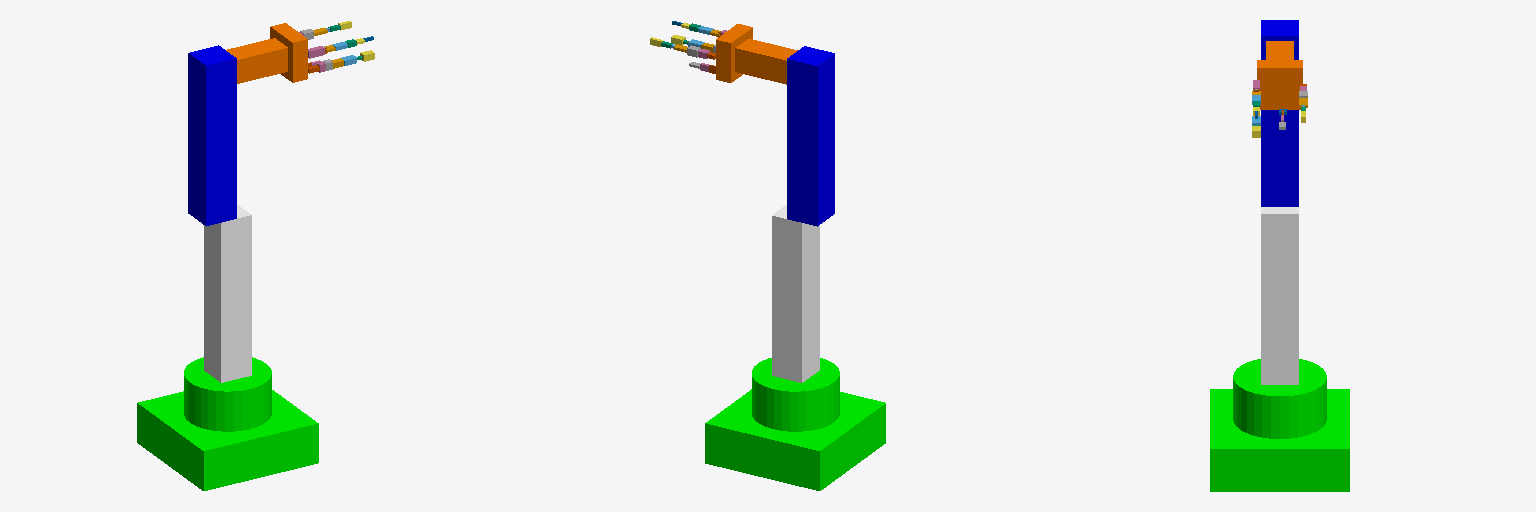
URDF robot description (robot):
<?xml version='1.0' encoding='utf-8'?>
<robot name="robot">
  <link name="base_link">
    <visual>
      <origin xyz="0 0 0.125" rpy="0 0 0" />
      <geometry>
        <box size="0.75 0.75 0.25" />
      </geometry>
      <material name="green" />
    </visual>
    <visual>
      <origin xyz="0 0 0.375" rpy="0 0 0" />
      <geometry>
        <cylinder length="0.25" radius="0.25" />
      </geometry>
      <material name="green">
        <color rgba="0 1 0 1" />
      </material>
    </visual>
    <collision>
      <geometry>
        <box size="0.75 0.75 0.5" />
      </geometry>
    </collision>
    <inertial>
      <mass value="0.5" />
      <inertia ixx="0.034" ixy="0.0" ixz="0.0" iyy="0.034" iyz="0.0" izz="0.034" />
    </inertial>
  </link>
  <link name="support_link">
    <visual>
      <origin xyz="0 0 0.5" rpy="0 0 0" />
      <geometry>
        <box size="0.2 0.2 1" />
      </geometry>
      <material name="white">
        <color rgba="1 1 1 1" />
      </material>
    </visual>
    <collision>
      <geometry>
        <box size="0.2 0.2 1" />
      </geometry>
    </collision>
    <inertial>
      <mass value="0.1" />
      <inertia ixx="0.01" ixy="0.0" ixz="0.0" iyy="0.01" iyz="0.0" izz="0.01" />
    </inertial>
  </link>
  <joint name="support_joint" type="continuous">
    <origin xyz="0 0 0.5" rpy="0 0 0" />
    <parent link="base_link" />
    <child link="support_link" />
    <axis xyz="0 0 1" />
  </joint>
  <link name="arm_link">
    <visual>
      <origin xyz="0 0 0.5" rpy="0 0 0" />
      <geometry>
        <box size="0.2 0.2 1" />
      </geometry>
      <material name="blue">
        <color rgba="0 0 1 1" />
      </material>
    </visual>
    <collision>
      <geometry>
        <box size="0.2 0.2 1" />
      </geometry>
    </collision>
    <inertial>
      <mass value="0.1" />
      <inertia ixx="0.01" ixy="0.0" ixz="0.0" iyy="0.01" iyz="0.0" izz="0.01" />
    </inertial>
  </link>
  <joint name="arm_joint" type="revolute">
    <origin xyz="-0.1 0 1" rpy="0 0 0" />
    <parent link="support_link" />
    <child link="arm_link" />
    <axis xyz="0 1 0" />
    <limit lower="-3.14" upper="3.14" effort="1.0" velocity="1.0" />
  </joint>
  <link name="wrist_link">
    <visual>
      <origin xyz="0 0 0.25" rpy="0 0 0" />
      <geometry>
        <box size="0.15 0.15 0.5" />
      </geometry>
      <material name="orange">
        <color rgba="1 0.5 0 1" />
      </material>
    </visual>
    <collision>
      <geometry>
        <box size="0.15 0.15 0.5" />
      </geometry>
    </collision>
    <inertial>
      <mass value="0.1" />
      <inertia ixx="0.01" ixy="0.0" ixz="0.0" iyy="0.01" iyz="0.0" izz="0.01" />
    </inertial>
  </link>
  <joint name="wrist_joint" type="fixed">
    <origin xyz="0 0 0.9" rpy="0 1.571 0" />
    <parent link="arm_link" />
    <child link="wrist_link" />
  </joint>
  <link name="palm_link">
    <visual>
      <origin xyz="0 0 0.05" rpy="0 0 0" />
      <geometry>
        <box size="0.25 0.25 0.1" />
      </geometry>
      <material name="orange" />
    </visual>
    <collision>
      <geometry>
        <box size="0.25 0.25 0.1" />
      </geometry>
    </collision>
    <inertial>
      <mass value="0.1" />
      <inertia ixx="0.01" ixy="0.0" ixz="0.0" iyy="0.01" iyz="0.0" izz="0.01" />
    </inertial>
  </link>
  <joint name="palm_joint" type="fixed">
    <origin xyz="0 0 0.45" rpy="0 0 0" />
    <parent link="wrist_link" />
    <child link="palm_link" />
  </joint>
  <link name="finger_link_0_0">
    <visual>
      <origin xyz="0 0 0.023" rpy="0 0 0" />
      <geometry>
        <box size="0.024 0.035 0.046" />
      </geometry>
    </visual>
    <collision>
      <geometry>
        <box size="0.024 0.035 0.046" />
      </geometry>
    </collision>
    <inertial>
      <mass value="0.012" />
      <inertia ixx="0.0" iyy="0.0" izz="0.0" ixy="0" ixz="0" iyz="0" />
    </inertial>
  </link>
  <joint name="finger_joint_palm_link_to_finger_link_0_0" type="revolute">
    <origin xyz="-0.018 0.125 0.1" rpy="0 0 0" />
    <parent link="palm_link" />
    <child link="finger_link_0_0" />
    <axis xyz="-1.0 0.0 0.0" />
    <limit lower="-3.142" upper="3.142" effort="10" velocity="10" />
  </joint>
  <link name="finger_link_0_1">
    <visual>
      <origin xyz="0 0 0.0305" rpy="0 0 0" />
      <geometry>
        <box size="0.038 0.041 0.061" />
      </geometry>
    </visual>
    <collision>
      <geometry>
        <box size="0.038 0.041 0.061" />
      </geometry>
    </collision>
    <inertial>
      <mass value="0.029" />
      <inertia ixx="0.0" iyy="0.0" izz="0.0" ixy="0" ixz="0" iyz="0" />
    </inertial>
  </link>
  <joint name="finger_joint_finger_link_0_0_to_finger_link_0_1" type="revolute">
    <origin xyz="0.0 0.0 0.046" rpy="0 0 0" />
    <parent link="finger_link_0_0" />
    <child link="finger_link_0_1" />
    <axis xyz="0.0 1.0 0.0" />
    <limit lower="-3.142" upper="3.142" effort="10" velocity="10" />
  </joint>
  <link name="finger_link_0_2">
    <visual>
      <origin xyz="0 0 0.033" rpy="0 0 0" />
      <geometry>
        <box size="0.044 0.046 0.066" />
      </geometry>
    </visual>
    <collision>
      <geometry>
        <box size="0.044 0.046 0.066" />
      </geometry>
    </collision>
    <inertial>
      <mass value="0.04" />
      <inertia ixx="0.0" iyy="0.0" izz="0.0" ixy="0" ixz="0" iyz="0" />
    </inertial>
  </link>
  <joint name="finger_joint_finger_link_0_1_to_finger_link_0_2" type="revolute">
    <origin xyz="0.0 0.0 0.061" rpy="0 0 0" />
    <parent link="finger_link_0_1" />
    <child link="finger_link_0_2" />
    <axis xyz="1.0 0.0 0.0" />
    <limit lower="-3.142" upper="3.142" effort="10" velocity="10" />
  </joint>
  <link name="finger_link_0_3">
    <visual>
      <origin xyz="0 0 0.045" rpy="0 0 0" />
      <geometry>
        <box size="0.017 0.044 0.09" />
      </geometry>
    </visual>
    <collision>
      <geometry>
        <box size="0.017 0.044 0.09" />
      </geometry>
    </collision>
    <inertial>
      <mass value="0.02" />
      <inertia ixx="0.0" iyy="0.0" izz="0.0" ixy="0" ixz="0" iyz="0" />
    </inertial>
  </link>
  <joint name="finger_joint_finger_link_0_2_to_finger_link_0_3" type="revolute">
    <origin xyz="0.0 0.0 0.066" rpy="0 0 0" />
    <parent link="finger_link_0_2" />
    <child link="finger_link_0_3" />
    <axis xyz="0.0 1.0 0.0" />
    <limit lower="-3.142" upper="3.142" effort="10" velocity="10" />
  </joint>
  <link name="finger_link_0_4">
    <visual>
      <origin xyz="0 0 0.011" rpy="0 0 0" />
      <geometry>
        <box size="0.017 0.017 0.022" />
      </geometry>
    </visual>
    <collision>
      <geometry>
        <box size="0.017 0.017 0.022" />
      </geometry>
    </collision>
    <inertial>
      <mass value="0.002" />
      <inertia ixx="0.0" iyy="0.0" izz="0.0" ixy="0" ixz="0" iyz="0" />
    </inertial>
  </link>
  <joint name="finger_joint_finger_link_0_3_to_finger_link_0_4" type="revolute">
    <origin xyz="0.0 0.0 0.09" rpy="0 0 0" />
    <parent link="finger_link_0_3" />
    <child link="finger_link_0_4" />
    <axis xyz="1.0 1.0 0.0" />
    <limit lower="-3.142" upper="3.142" effort="10" velocity="10" />
  </joint>
  <link name="finger_link_0_5">
    <visual>
      <origin xyz="0 0 0.032" rpy="0 0 0" />
      <geometry>
        <box size="0.021 0.028 0.064" />
      </geometry>
    </visual>
    <collision>
      <geometry>
        <box size="0.021 0.028 0.064" />
      </geometry>
    </collision>
    <inertial>
      <mass value="0.011" />
      <inertia ixx="0.0" iyy="0.0" izz="0.0" ixy="0" ixz="0" iyz="0" />
    </inertial>
  </link>
  <joint name="finger_joint_finger_link_0_4_to_finger_link_0_5" type="revolute">
    <origin xyz="0.0 0.0 0.022" rpy="0 0 0" />
    <parent link="finger_link_0_4" />
    <child link="finger_link_0_5" />
    <axis xyz="0.0 1.0 0.0" />
    <limit lower="-3.142" upper="3.142" effort="10" velocity="10" />
  </joint>
  <link name="finger_link_0_6">
    <visual>
      <origin xyz="0 0 0.038" rpy="0 0 0" />
      <geometry>
        <box size="0.037 0.023 0.076" />
      </geometry>
    </visual>
    <collision>
      <geometry>
        <box size="0.037 0.023 0.076" />
      </geometry>
    </collision>
    <inertial>
      <mass value="0.019" />
      <inertia ixx="0.0" iyy="0.0" izz="0.0" ixy="0" ixz="0" iyz="0" />
    </inertial>
  </link>
  <joint name="finger_joint_finger_link_0_5_to_finger_link_0_6" type="revolute">
    <origin xyz="0.0 0.0 0.064" rpy="0 0 0" />
    <parent link="finger_link_0_5" />
    <child link="finger_link_0_6" />
    <axis xyz="1.0 0.0 0.0" />
    <limit lower="-3.142" upper="3.142" effort="10" velocity="10" />
  </joint>
  <link name="finger_link_1_0">
    <visual>
      <origin xyz="0 0 0.0435" rpy="0 0 0" />
      <geometry>
        <box size="0.031 0.026 0.087" />
      </geometry>
    </visual>
    <collision>
      <geometry>
        <box size="0.031 0.026 0.087" />
      </geometry>
    </collision>
    <inertial>
      <mass value="0.021" />
      <inertia ixx="0.0" iyy="0.0" izz="0.0" ixy="0" ixz="0" iyz="0" />
    </inertial>
  </link>
  <joint name="finger_joint_palm_link_to_finger_link_1_0" type="revolute">
    <origin xyz="-0.029 -0.125 0.1" rpy="0 0 0" />
    <parent link="palm_link" />
    <child link="finger_link_1_0" />
    <axis xyz="1.0 0.0 0.0" />
    <limit lower="-3.142" upper="3.142" effort="10" velocity="10" />
  </joint>
  <link name="finger_link_1_1">
    <visual>
      <origin xyz="0 0 0.016" rpy="0 0 0" />
      <geometry>
        <box size="0.037 0.026 0.032" />
      </geometry>
    </visual>
    <collision>
      <geometry>
        <box size="0.037 0.026 0.032" />
      </geometry>
    </collision>
    <inertial>
      <mass value="0.009" />
      <inertia ixx="0.0" iyy="0.0" izz="0.0" ixy="0" ixz="0" iyz="0" />
    </inertial>
  </link>
  <joint name="finger_joint_finger_link_1_0_to_finger_link_1_1" type="revolute">
    <origin xyz="0.0 0.0 0.087" rpy="0 0 0" />
    <parent link="finger_link_1_0" />
    <child link="finger_link_1_1" />
    <axis xyz="1.0 0.0 0.0" />
    <limit lower="-3.142" upper="3.142" effort="10" velocity="10" />
  </joint>
  <link name="finger_link_2_0">
    <visual>
      <origin xyz="0 0 0.0495" rpy="0 0 0" />
      <geometry>
        <box size="0.045 0.035 0.099" />
      </geometry>
    </visual>
    <collision>
      <geometry>
        <box size="0.045 0.035 0.099" />
      </geometry>
    </collision>
    <inertial>
      <mass value="0.047" />
      <inertia ixx="0.0" iyy="0.0" izz="0.0" ixy="0" ixz="0" iyz="0" />
    </inertial>
  </link>
  <joint name="finger_joint_palm_link_to_finger_link_2_0" type="revolute">
    <origin xyz="-0.032 -0.125 0.1" rpy="0 0 0" />
    <parent link="palm_link" />
    <child link="finger_link_2_0" />
    <axis xyz="1.0 0.0 0.0" />
    <limit lower="-3.142" upper="3.142" effort="10" velocity="10" />
  </joint>
  <link name="finger_link_2_1">
    <visual>
      <origin xyz="0 0 0.0065" rpy="0 0 0" />
      <geometry>
        <box size="0.034 0.015 0.013" />
      </geometry>
    </visual>
    <collision>
      <geometry>
        <box size="0.034 0.015 0.013" />
      </geometry>
    </collision>
    <inertial>
      <mass value="0.002" />
      <inertia ixx="0.0" iyy="0.0" izz="0.0" ixy="0" ixz="0" iyz="0" />
    </inertial>
  </link>
  <joint name="finger_joint_finger_link_2_0_to_finger_link_2_1" type="revolute">
    <origin xyz="0.0 0.0 0.099" rpy="0 0 0" />
    <parent link="finger_link_2_0" />
    <child link="finger_link_2_1" />
    <axis xyz="1.0 1.0 0.0" />
    <limit lower="-3.142" upper="3.142" effort="10" velocity="10" />
  </joint>
  <link name="finger_link_2_2">
    <visual>
      <origin xyz="0 0 0.0285" rpy="0 0 0" />
      <geometry>
        <box size="0.016 0.048 0.057" />
      </geometry>
    </visual>
    <collision>
      <geometry>
        <box size="0.016 0.048 0.057" />
      </geometry>
    </collision>
    <inertial>
      <mass value="0.013" />
      <inertia ixx="0.0" iyy="0.0" izz="0.0" ixy="0" ixz="0" iyz="0" />
    </inertial>
  </link>
  <joint name="finger_joint_finger_link_2_1_to_finger_link_2_2" type="revolute">
    <origin xyz="0.0 0.0 0.013" rpy="0 0 0" />
    <parent link="finger_link_2_1" />
    <child link="finger_link_2_2" />
    <axis xyz="1.0 0.0 0.0" />
    <limit lower="-3.142" upper="3.142" effort="10" velocity="10" />
  </joint>
  <link name="finger_link_2_3">
    <visual>
      <origin xyz="0 0 0.04" rpy="0 0 0" />
      <geometry>
        <box size="0.023 0.043 0.08" />
      </geometry>
    </visual>
    <collision>
      <geometry>
        <box size="0.023 0.043 0.08" />
      </geometry>
    </collision>
    <inertial>
      <mass value="0.024" />
      <inertia ixx="0.0" iyy="0.0" izz="0.0" ixy="0" ixz="0" iyz="0" />
    </inertial>
  </link>
  <joint name="finger_joint_finger_link_2_2_to_finger_link_2_3" type="revolute">
    <origin xyz="0.0 0.0 0.057" rpy="0 0 0" />
    <parent link="finger_link_2_2" />
    <child link="finger_link_2_3" />
    <axis xyz="0.0 1.0 0.0" />
    <limit lower="-3.142" upper="3.142" effort="10" velocity="10" />
  </joint>
  <link name="finger_link_2_4">
    <visual>
      <origin xyz="0 0 0.03" rpy="0 0 0" />
      <geometry>
        <box size="0.029 0.037 0.06" />
      </geometry>
    </visual>
    <collision>
      <geometry>
        <box size="0.029 0.037 0.06" />
      </geometry>
    </collision>
    <inertial>
      <mass value="0.019" />
      <inertia ixx="0.0" iyy="0.0" izz="0.0" ixy="0" ixz="0" iyz="0" />
    </inertial>
  </link>
  <joint name="finger_joint_finger_link_2_3_to_finger_link_2_4" type="revolute">
    <origin xyz="0.0 0.0 0.08" rpy="0 0 0" />
    <parent link="finger_link_2_3" />
    <child link="finger_link_2_4" />
    <axis xyz="1.0 0.0 0.0" />
    <limit lower="-3.142" upper="3.142" effort="10" velocity="10" />
  </joint>
  <link name="finger_link_2_5">
    <visual>
      <origin xyz="0 0 0.0265" rpy="0 0 0" />
      <geometry>
        <box size="0.015 0.036 0.053" />
      </geometry>
    </visual>
    <collision>
      <geometry>
        <box size="0.015 0.036 0.053" />
      </geometry>
    </collision>
    <inertial>
      <mass value="0.009" />
      <inertia ixx="0.0" iyy="0.0" izz="0.0" ixy="0" ixz="0" iyz="0" />
    </inertial>
  </link>
  <joint name="finger_joint_finger_link_2_4_to_finger_link_2_5" type="revolute">
    <origin xyz="0.0 0.0 0.06" rpy="0 0 0" />
    <parent link="finger_link_2_4" />
    <child link="finger_link_2_5" />
    <axis xyz="0.0 1.0 0.0" />
    <limit lower="-3.142" upper="3.142" effort="10" velocity="10" />
  </joint>
  <link name="finger_link_2_6">
    <visual>
      <origin xyz="0 0 0.0325" rpy="0 0 0" />
      <geometry>
        <box size="0.018 0.015 0.065" />
      </geometry>
    </visual>
    <collision>
      <geometry>
        <box size="0.018 0.015 0.065" />
      </geometry>
    </collision>
    <inertial>
      <mass value="0.005" />
      <inertia ixx="0.0" iyy="0.0" izz="0.0" ixy="0" ixz="0" iyz="0" />
    </inertial>
  </link>
  <joint name="finger_joint_finger_link_2_5_to_finger_link_2_6" type="revolute">
    <origin xyz="0.0 0.0 0.053" rpy="0 0 0" />
    <parent link="finger_link_2_5" />
    <child link="finger_link_2_6" />
    <axis xyz="0.0 1.0 0.0" />
    <limit lower="-3.142" upper="3.142" effort="10" velocity="10" />
  </joint>
  <link name="finger_link_3_0">
    <visual>
      <origin xyz="0 0 0.034" rpy="0 0 0" />
      <geometry>
        <box size="0.029 0.026 0.068" />
      </geometry>
    </visual>
    <collision>
      <geometry>
        <box size="0.029 0.026 0.068" />
      </geometry>
    </collision>
    <inertial>
      <mass value="0.015" />
      <inertia ixx="0.0" iyy="0.0" izz="0.0" ixy="0" ixz="0" iyz="0" />
    </inertial>
  </link>
  <joint name="finger_joint_palm_link_to_finger_link_3_0" type="revolute">
    <origin xyz="0.071 -0.125 0.1" rpy="0 0 0" />
    <parent link="palm_link" />
    <child link="finger_link_3_0" />
    <axis xyz="1.0 0.0 0.0" />
    <limit lower="-3.142" upper="3.142" effort="10" velocity="10" />
  </joint>
  <link name="finger_link_3_1">
    <visual>
      <origin xyz="0 0 0.021" rpy="0 0 0" />
      <geometry>
        <box size="0.046 0.031 0.042" />
      </geometry>
    </visual>
    <collision>
      <geometry>
        <box size="0.046 0.031 0.042" />
      </geometry>
    </collision>
    <inertial>
      <mass value="0.018" />
      <inertia ixx="0.0" iyy="0.0" izz="0.0" ixy="0" ixz="0" iyz="0" />
    </inertial>
  </link>
  <joint name="finger_joint_finger_link_3_0_to_finger_link_3_1" type="revolute">
    <origin xyz="0.0 0.0 0.068" rpy="0 0 0" />
    <parent link="finger_link_3_0" />
    <child link="finger_link_3_1" />
    <axis xyz="0.0 1.0 0.0" />
    <limit lower="-3.142" upper="3.142" effort="10" velocity="10" />
  </joint>
  <link name="finger_link_3_2">
    <visual>
      <origin xyz="0 0 0.0215" rpy="0 0 0" />
      <geometry>
        <box size="0.048 0.027 0.043" />
      </geometry>
    </visual>
    <collision>
      <geometry>
        <box size="0.048 0.027 0.043" />
      </geometry>
    </collision>
    <inertial>
      <mass value="0.017" />
      <inertia ixx="0.0" iyy="0.0" izz="0.0" ixy="0" ixz="0" iyz="0" />
    </inertial>
  </link>
  <joint name="finger_joint_finger_link_3_1_to_finger_link_3_2" type="revolute">
    <origin xyz="0.0 0.0 0.042" rpy="0 0 0" />
    <parent link="finger_link_3_1" />
    <child link="finger_link_3_2" />
    <axis xyz="1.0 0.0 0.0" />
    <limit lower="-3.142" upper="3.142" effort="10" velocity="10" />
  </joint>
  <link name="finger_link_3_3">
    <visual>
      <origin xyz="0 0 0.0365" rpy="0 0 0" />
      <geometry>
        <box size="0.034 0.04 0.073" />
      </geometry>
    </visual>
    <collision>
      <geometry>
        <box size="0.034 0.04 0.073" />
      </geometry>
    </collision>
    <inertial>
      <mass value="0.03" />
      <inertia ixx="0.0" iyy="0.0" izz="0.0" ixy="0" ixz="0" iyz="0" />
    </inertial>
  </link>
  <joint name="finger_joint_finger_link_3_2_to_finger_link_3_3" type="revolute">
    <origin xyz="0.0 0.0 0.043" rpy="0 0 0" />
    <parent link="finger_link_3_2" />
    <child link="finger_link_3_3" />
    <axis xyz="0.0 1.0 0.0" />
    <limit lower="-3.142" upper="3.142" effort="10" velocity="10" />
  </joint>
  <link name="finger_link_3_4">
    <visual>
      <origin xyz="0 0 0.0415" rpy="0 0 0" />
      <geometry>
        <box size="0.033 0.048 0.083" />
      </geometry>
    </visual>
    <collision>
      <geometry>
        <box size="0.033 0.048 0.083" />
      </geometry>
    </collision>
    <inertial>
      <mass value="0.039" />
      <inertia ixx="0.0" iyy="0.0" izz="0.0" ixy="0" ixz="0" iyz="0" />
    </inertial>
  </link>
  <joint name="finger_joint_finger_link_3_3_to_finger_link_3_4" type="revolute">
    <origin xyz="0.0 0.0 0.073" rpy="0 0 0" />
    <parent link="finger_link_3_3" />
    <child link="finger_link_3_4" />
    <axis xyz="0.0 1.0 0.0" />
    <limit lower="-3.142" upper="3.142" effort="10" velocity="10" />
  </joint>
  <link name="finger_link_3_5">
    <visual>
      <origin xyz="0 0 0.0225" rpy="0 0 0" />
      <geometry>
        <box size="0.011 0.024 0.045" />
      </geometry>
    </visual>
    <collision>
      <geometry>
        <box size="0.011 0.024 0.045" />
      </geometry>
    </collision>
    <inertial>
      <mass value="0.004" />
      <inertia ixx="0.0" iyy="0.0" izz="0.0" ixy="0" ixz="0" iyz="0" />
    </inertial>
  </link>
  <joint name="finger_joint_finger_link_3_4_to_finger_link_3_5" type="revolute">
    <origin xyz="0.0 0.0 0.083" rpy="0 0 0" />
    <parent link="finger_link_3_4" />
    <child link="finger_link_3_5" />
    <axis xyz="0.0 1.0 0.0" />
    <limit lower="-3.142" upper="3.142" effort="10" velocity="10" />
  </joint>
  <link name="finger_link_3_6">
    <visual>
      <origin xyz="0 0 0.035" rpy="0 0 0" />
      <geometry>
        <box size="0.04 0.043 0.07" />
      </geometry>
    </visual>
    <collision>
      <geometry>
        <box size="0.04 0.043 0.07" />
      </geometry>
    </collision>
    <inertial>
      <mass value="0.036" />
      <inertia ixx="0.0" iyy="0.0" izz="0.0" ixy="0" ixz="0" iyz="0" />
    </inertial>
  </link>
  <joint name="finger_joint_finger_link_3_5_to_finger_link_3_6" type="revolute">
    <origin xyz="0.0 0.0 0.045" rpy="0 0 0" />
    <parent link="finger_link_3_5" />
    <child link="finger_link_3_6" />
    <axis xyz="0.0 1.0 0.0" />
    <limit lower="-3.142" upper="3.142" effort="10" velocity="10" />
  </joint>
  <link name="finger_link_4_0">
    <visual>
      <origin xyz="0 0 0.021" rpy="0 0 0" />
      <geometry>
        <box size="0.02 0.043 0.042" />
      </geometry>
    </visual>
    <collision>
      <geometry>
        <box size="0.02 0.043 0.042" />
      </geometry>
    </collision>
    <inertial>
      <mass value="0.011" />
      <inertia ixx="0.0" iyy="0.0" izz="0.0" ixy="0" ixz="0" iyz="0" />
    </inertial>
  </link>
  <joint name="finger_joint_palm_link_to_finger_link_4_0" type="revolute">
    <origin xyz="0.125 0.014 0.1" rpy="0 0 0" />
    <parent link="palm_link" />
    <child link="finger_link_4_0" />
    <axis xyz="0.0 1.0 0.0" />
    <limit lower="-3.142" upper="3.142" effort="10" velocity="10" />
  </joint>
  <link name="finger_link_4_1">
    <visual>
      <origin xyz="0 0 0.03" rpy="0 0 0" />
      <geometry>
        <box size="0.048 0.011 0.06" />
      </geometry>
    </visual>
    <collision>
      <geometry>
        <box size="0.048 0.011 0.06" />
      </geometry>
    </collision>
    <inertial>
      <mass value="0.01" />
      <inertia ixx="0.0" iyy="0.0" izz="0.0" ixy="0" ixz="0" iyz="0" />
    </inertial>
  </link>
  <joint name="finger_joint_finger_link_4_0_to_finger_link_4_1" type="revolute">
    <origin xyz="0.0 0.0 0.042" rpy="0 0 0" />
    <parent link="finger_link_4_0" />
    <child link="finger_link_4_1" />
    <axis xyz="0.0 1.0 0.0" />
    <limit lower="-3.142" upper="3.142" effort="10" velocity="10" />
  </joint>
  <link name="finger_link_4_2">
    <visual>
      <origin xyz="0 0 0.0295" rpy="0 0 0" />
      <geometry>
        <box size="0.039 0.019 0.059" />
      </geometry>
    </visual>
    <collision>
      <geometry>
        <box size="0.039 0.019 0.059" />
      </geometry>
    </collision>
    <inertial>
      <mass value="0.013" />
      <inertia ixx="0.0" iyy="0.0" izz="0.0" ixy="0" ixz="0" iyz="0" />
    </inertial>
  </link>
  <joint name="finger_joint_finger_link_4_1_to_finger_link_4_2" type="revolute">
    <origin xyz="0.0 0.0 0.06" rpy="0 0 0" />
    <parent link="finger_link_4_1" />
    <child link="finger_link_4_2" />
    <axis xyz="0.0 1.0 0.0" />
    <limit lower="-3.142" upper="3.142" effort="10" velocity="10" />
  </joint>
  <link name="finger_link_4_3">
    <visual>
      <origin xyz="0 0 0.0345" rpy="0 0 0" />
      <geometry>
        <box size="0.015 0.036 0.069" />
      </geometry>
    </visual>
    <collision>
      <geometry>
        <box size="0.015 0.036 0.069" />
      </geometry>
    </collision>
    <inertial>
      <mass value="0.011" />
      <inertia ixx="0.0" iyy="0.0" izz="0.0" ixy="0" ixz="0" iyz="0" />
    </inertial>
  </link>
  <joint name="finger_joint_finger_link_4_2_to_finger_link_4_3" type="revolute">
    <origin xyz="0.0 0.0 0.059" rpy="0 0 0" />
    <parent link="finger_link_4_2" />
    <child link="finger_link_4_3" />
    <axis xyz="1.0 0.0 0.0" />
    <limit lower="-3.142" upper="3.142" effort="10" velocity="10" />
  </joint>
</robot>

--- Facts derived from the render (not from the file) ---
3 views of the same robot in one strip: view 1: azimuth 30°, elevation 25°; view 2: azimuth 150°, elevation 25°; view 3: azimuth 270°, elevation 25° (orthographic).
Robot: robot — 32 links, 31 joints (28 revolute, 1 continuous, 2 fixed); root link base_link; default pose: all joints at 0.
Links seen in each view (by area): view 1: base_link, arm_link, support_link, wrist_link, palm_link; view 2: base_link, arm_link, support_link, wrist_link, palm_link; view 3: base_link, support_link, arm_link, palm_link, wrist_link.
Link boxes in pixels (x1,y1,x2,y2): base_link: [137, 357, 318, 490]; arm_link: [188, 45, 236, 225]; support_link: [204, 204, 251, 382]; wrist_link: [226, 38, 287, 83]; palm_link: [270, 23, 307, 82]; base_link: [705, 358, 885, 490]; arm_link: [787, 46, 834, 226]; support_link: [772, 205, 819, 382]; wrist_link: [735, 39, 797, 84]; palm_link: [716, 24, 752, 82]; base_link: [1210, 359, 1349, 491]; support_link: [1261, 207, 1298, 384]; arm_link: [1261, 20, 1298, 206]; palm_link: [1257, 60, 1302, 109]; wrist_link: [1266, 41, 1293, 59].
Size in the robot's own frame: 1.25 by 0.75 by 2.52 metres.
Geometry: primitives only (box / cylinder / sphere), no mesh files.
